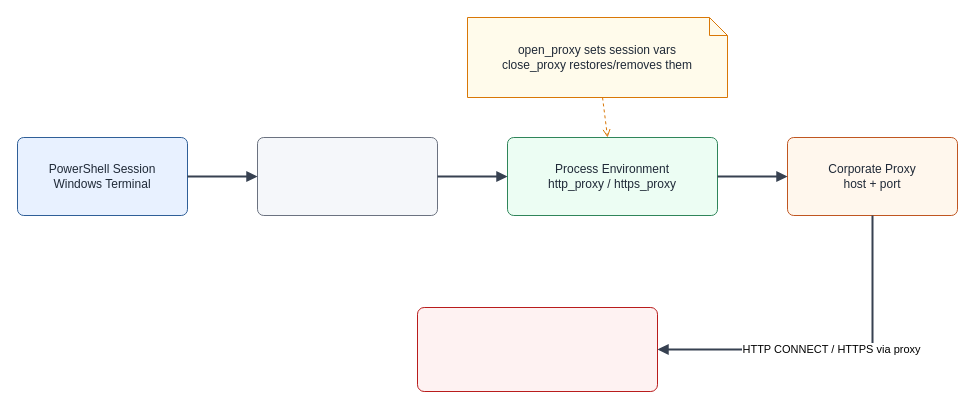
The diagram is 975 pixels wide and 409 high, and some of its shapes have lost their labels. The shapes that lost their labels are listed below. From the top down, each one's centre as x and y in pixels, then its label:
At pixel 347 176: "CLI Tools git / pip / npm / curl".
At pixel 537 349: "External Services GitHub / PyPI / npm / Docker Hub".
